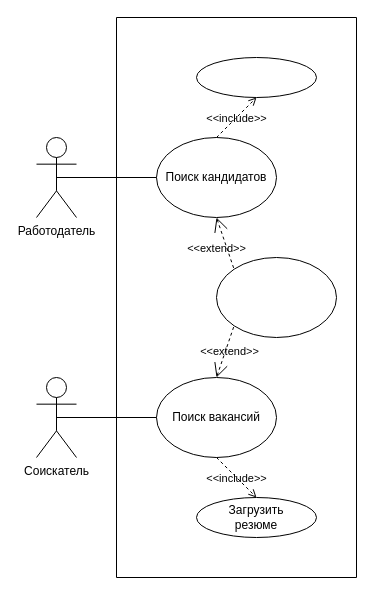
Some shapes in this 374 by 595 pixel diagram are drawn without their labels. The centre of each missing label's shape, as x and y in pixels:
"Заполнить вакансию" belongs at point 256,77.
"Найти соответствия" belongs at point 276,297.
